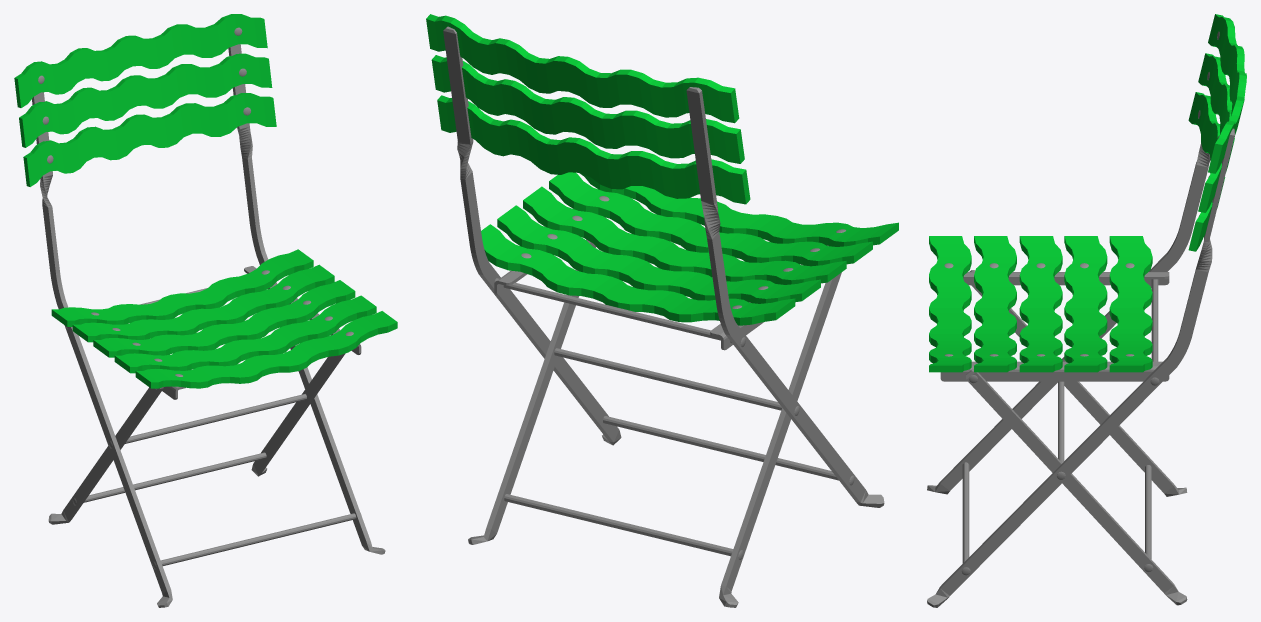
The model's file is cafe-chair.obj.
3 views of the same model, side by side, from view 1: azimuth 30°, elevation 25°; view 2: azimuth 150°, elevation 25°; view 3: azimuth 270°, elevation 25° (orthographic). The views are drawn at different scales.
Parts seen in each view (by area): view 1: Cafe_chair_Cafe_chair_Green_chair, Cafe_chair_Cafe_chair_Aluminum; view 2: Cafe_chair_Cafe_chair_Green_chair, Cafe_chair_Cafe_chair_Aluminum; view 3: Cafe_chair_Cafe_chair_Green_chair, Cafe_chair_Cafe_chair_Aluminum.
Boxes of the visible parts, left/top/right/bottom form: Cafe_chair_Cafe_chair_Green_chair: left=14, top=14, right=397, bottom=388; Cafe_chair_Cafe_chair_Aluminum: left=32, top=27, right=385, bottom=607; Cafe_chair_Cafe_chair_Green_chair: left=426, top=14, right=898, bottom=325; Cafe_chair_Cafe_chair_Aluminum: left=443, top=26, right=884, bottom=607; Cafe_chair_Cafe_chair_Green_chair: left=929, top=14, right=1246, bottom=372; Cafe_chair_Cafe_chair_Aluminum: left=927, top=26, right=1234, bottom=607.
Size of the model in its own units: 3.63 by 6.23 by 3.79.
